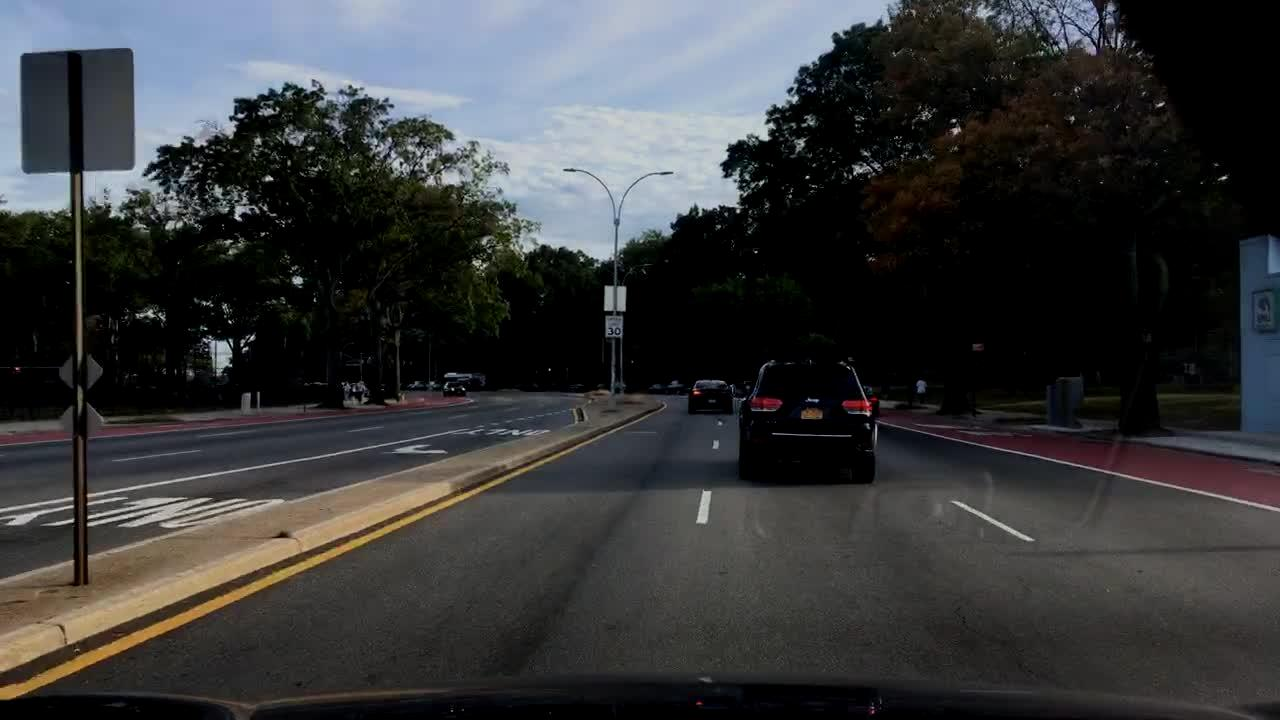jeep: (797, 389, 829, 410)
